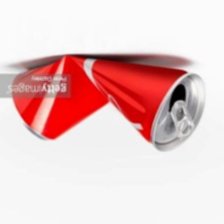can: (6, 50, 208, 154)
